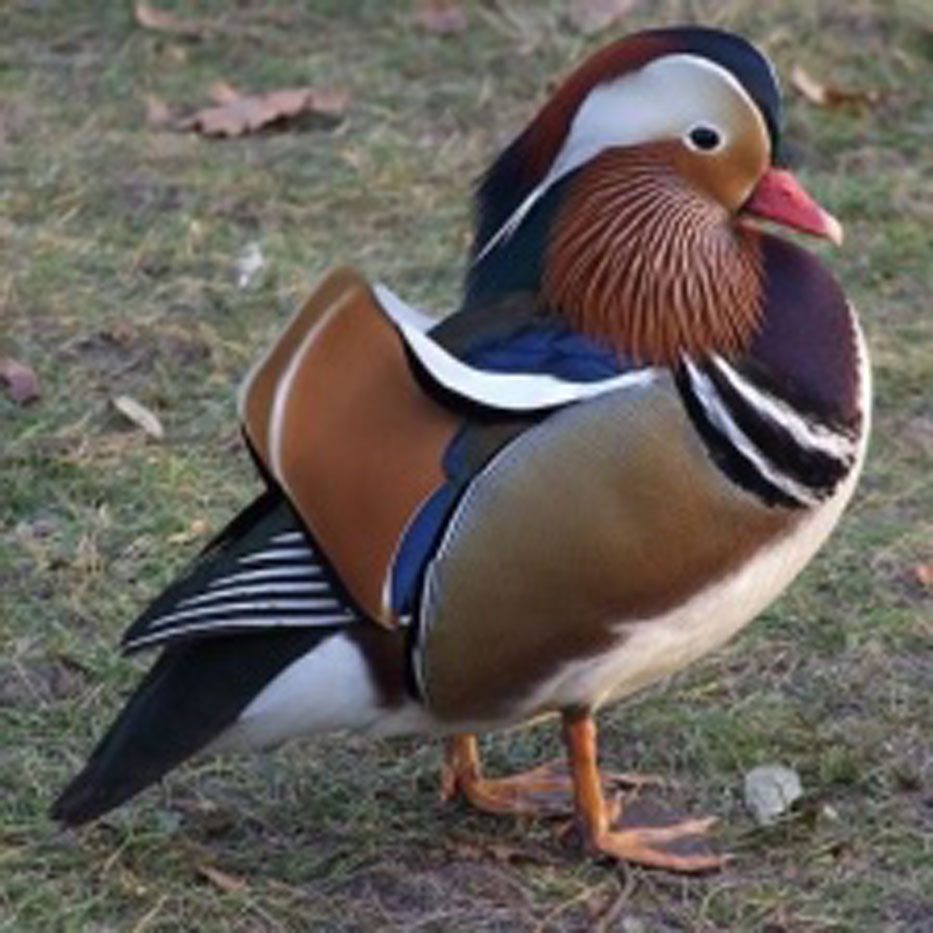Mencari Makan di Lumpur: (748, 149, 864, 272)
